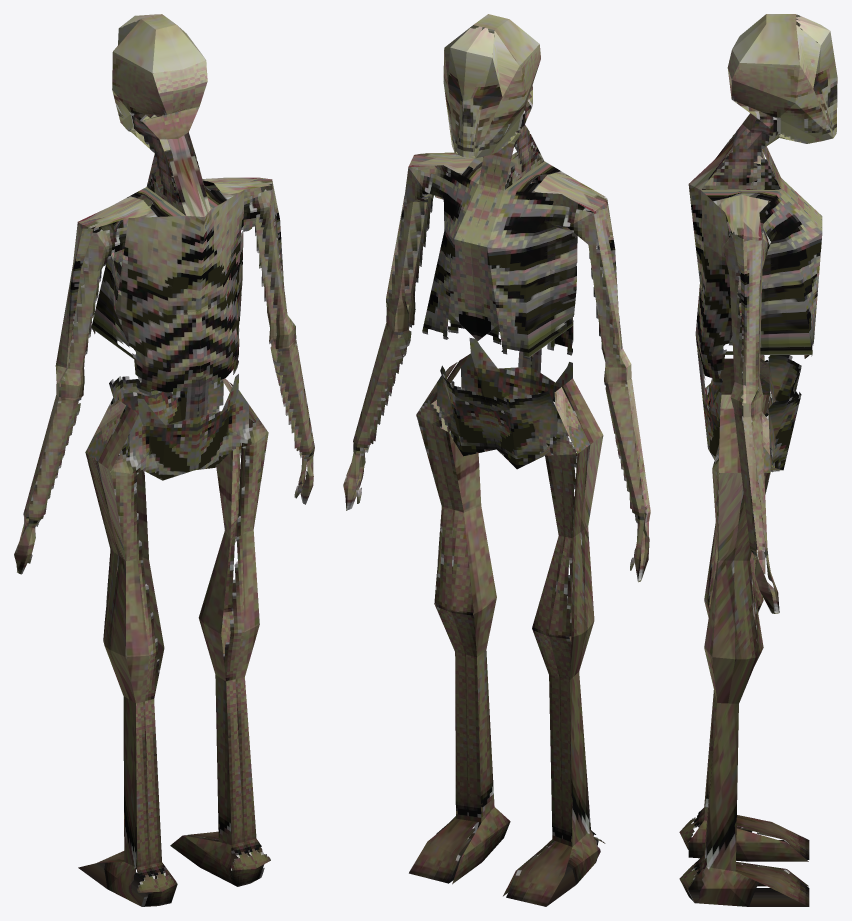
File: skeleton.fbx
3 views of the same model, side by side, from view 1: azimuth 30°, elevation 25°; view 2: azimuth 150°, elevation 25°; view 3: azimuth 270°, elevation 25° (orthographic). The views are drawn at different scales.
Parts seen in each view (by area): view 1: skeleton; view 2: skeleton; view 3: skeleton.
Part boxes in pixels (x1,y1,x2,y2): skeleton: (14,14,314,906); skeleton: (343,14,650,906); skeleton: (679,14,837,906).
Bounding box in the file's own units: 71.82 × 193 × 32.35.
